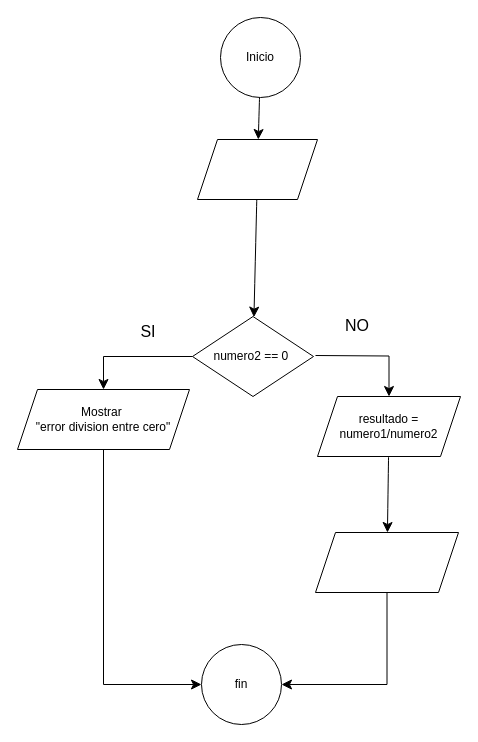
Some shapes in this 478 by 742 pixel diagram are drawn without their labels. The centre of each missing label's shape, as x and y in pixels:
"Leer numero1, numero2" goes at [257,169].
"mostrar resultado" goes at [386,562].
